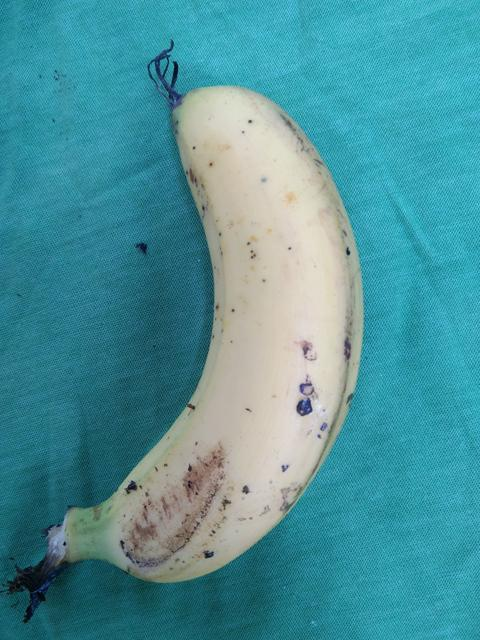ripe: (71, 76, 378, 593)
